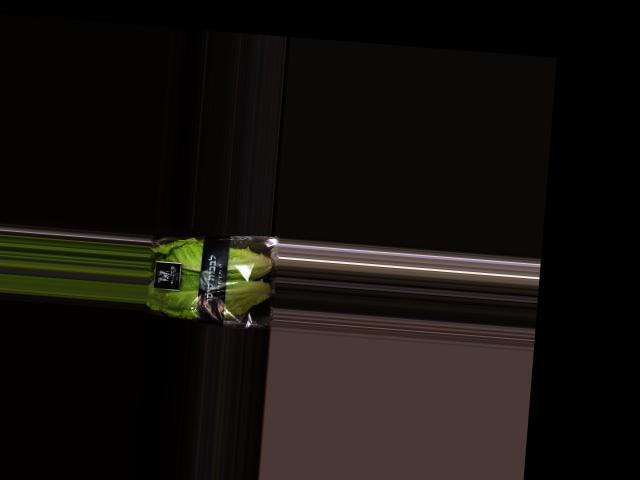lettuce: (146, 227, 280, 323)
